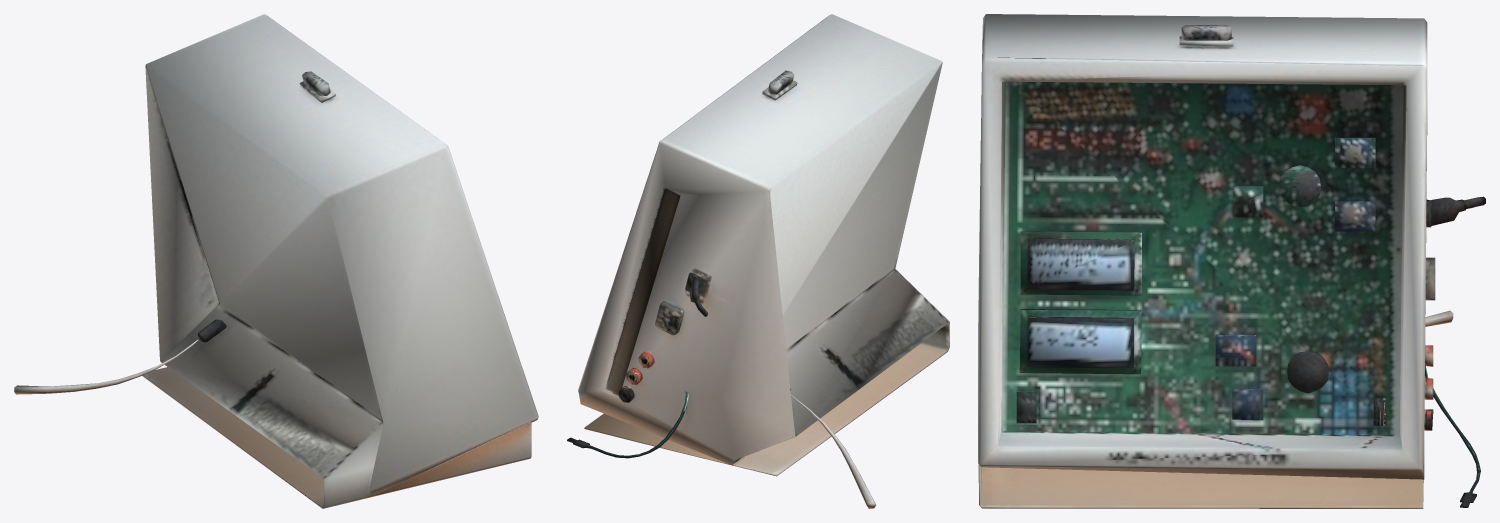
The model's file is MPU_MCU_trainer.fbx.
3 views of the same model, side by side, from view 1: azimuth 30°, elevation 25°; view 2: azimuth 150°, elevation 25°; view 3: azimuth 270°, elevation 25° (orthographic). The views are drawn at different scales.
Parts seen in each view (by area): view 1: tripo_node_f686a9ed; view 2: tripo_node_f686a9ed; view 3: tripo_node_f686a9ed.
Boxes of the visible parts, x1,y1,x2,y2 form: tripo_node_f686a9ed: (14,14,538,508); tripo_node_f686a9ed: (567,14,949,508); tripo_node_f686a9ed: (978,14,1485,508).
Bounding box in the file's own units: 0.9082 × 0.8926 × 0.998.
Materials: 1 (1 with a texture image).
